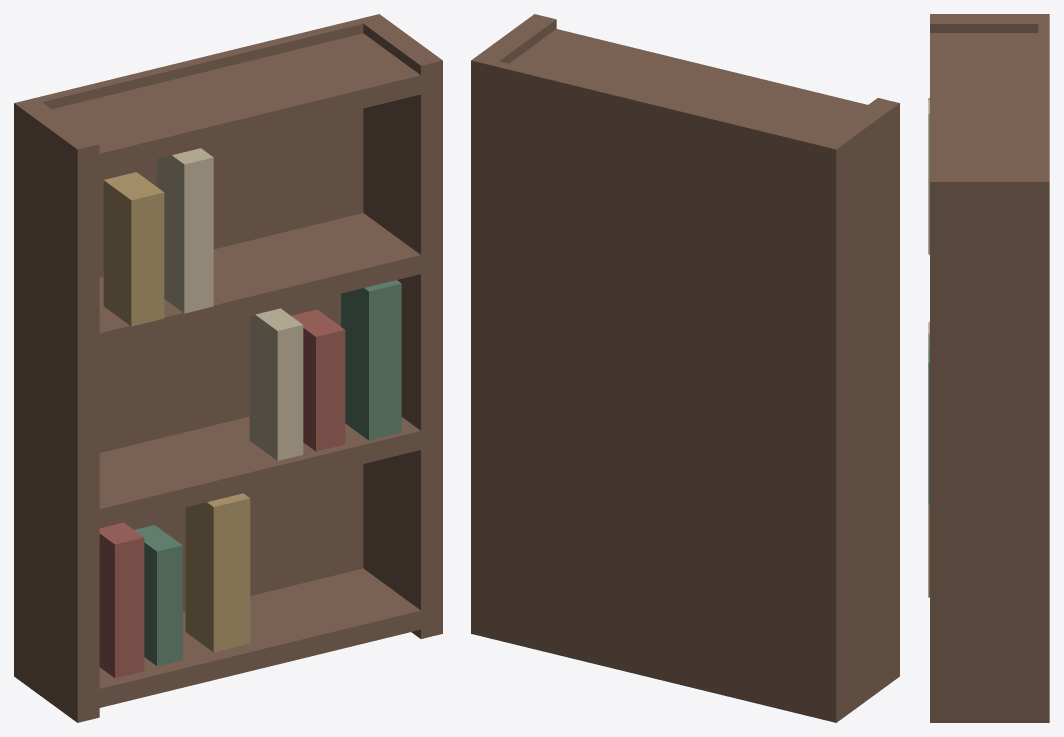
File: Bookshelf_FamilyBooks.fbx
3 views of the same model, side by side, from view 1: azimuth 30°, elevation 25°; view 2: azimuth 150°, elevation 25°; view 3: azimuth 270°, elevation 25° (orthographic). The views are drawn at different scales.
Parts seen in each view (by area): view 1: Shelf_Back, Shelf_Left, Shelf_Right, Shelf_Board_1.45, Shelf_Board_0.98, Shelf_Board_0.05, Shelf_Board_0.52, FamilyBook_03, FamilyBook_07, FamilyBook_06, FamilyBook_08, FamilyBook_04 (+3 smaller); view 2: Shelf_Back, Shelf_Left, Shelf_Board_1.45, Shelf_Right, Shelf_Board_0.05, Shelf_Board_0.98, Shelf_Board_0.52; view 3: Shelf_Right, Shelf_Board_1.45, Shelf_Back, Shelf_Board_0.98, Shelf_Left, Shelf_Board_0.52, FamilyBook_06, FamilyBook_08, Shelf_Board_0.05.
Boxes of the visible parts, x1,y1,x2,y2 form: Shelf_Back: (14, 14, 384, 680); Shelf_Left: (17, 100, 99, 722); Shelf_Right: (363, 18, 442, 638); Shelf_Board_1.45: (17, 33, 442, 178); Shelf_Board_0.98: (17, 213, 442, 357); Shelf_Board_0.05: (19, 568, 442, 713); Shelf_Board_0.52: (17, 416, 442, 533); FamilyBook_03: (185, 493, 250, 652); FamilyBook_07: (103, 172, 164, 326); FamilyBook_06: (341, 280, 401, 440); FamilyBook_08: (156, 148, 213, 313); FamilyBook_04: (249, 308, 303, 460); Shelf_Back: (471, 56, 842, 722); Shelf_Left: (818, 98, 899, 718); Shelf_Board_1.45: (509, 29, 899, 174); Shelf_Right: (475, 14, 556, 63); Shelf_Board_0.05: (841, 648, 899, 708); Shelf_Board_0.98: (841, 292, 899, 352); Shelf_Board_0.52: (840, 474, 899, 530); Shelf_Right: (930, 172, 1042, 722); Shelf_Board_1.45: (930, 33, 1042, 209); Shelf_Back: (1038, 14, 1049, 722); Shelf_Board_0.98: (930, 360, 1042, 378); Shelf_Left: (930, 14, 1042, 32); Shelf_Board_0.52: (930, 526, 1042, 544); FamilyBook_06: (928, 347, 929, 503); FamilyBook_08: (928, 100, 929, 254); Shelf_Board_0.05: (930, 696, 1042, 713).
Size of the model in its own units: 100 by 150 by 30.53.
